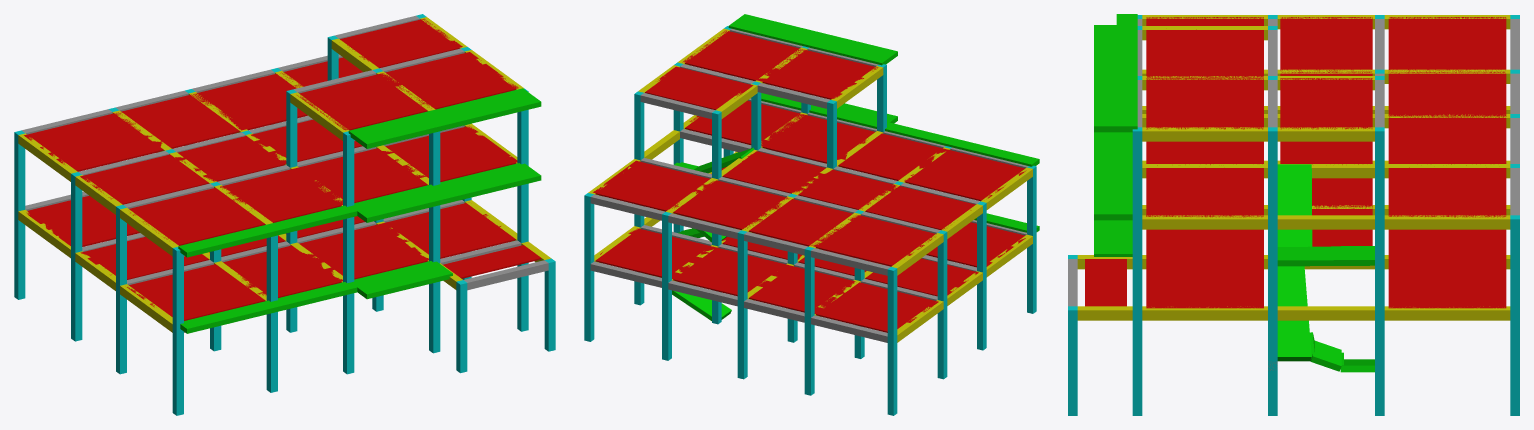
File: Villa_AR.glb
The picture shows the model from 3 angles, left to right: view 1: azimuth 30°, elevation 25°; view 2: azimuth 150°, elevation 25°; view 3: azimuth 270°, elevation 25°; orthographic projection. The views are drawn at different scales.
Parts seen in each view (by area): view 1: Villa_GC; view 2: Villa_GC; view 3: Villa_GC.
Part boxes in pixels (x1,y1,x2,y2): Villa_GC: [14, 14, 555, 415]; Villa_GC: [584, 14, 1039, 415]; Villa_GC: [1068, 14, 1519, 415].
Size of the model in its own units: 374 by 247 by 349.
